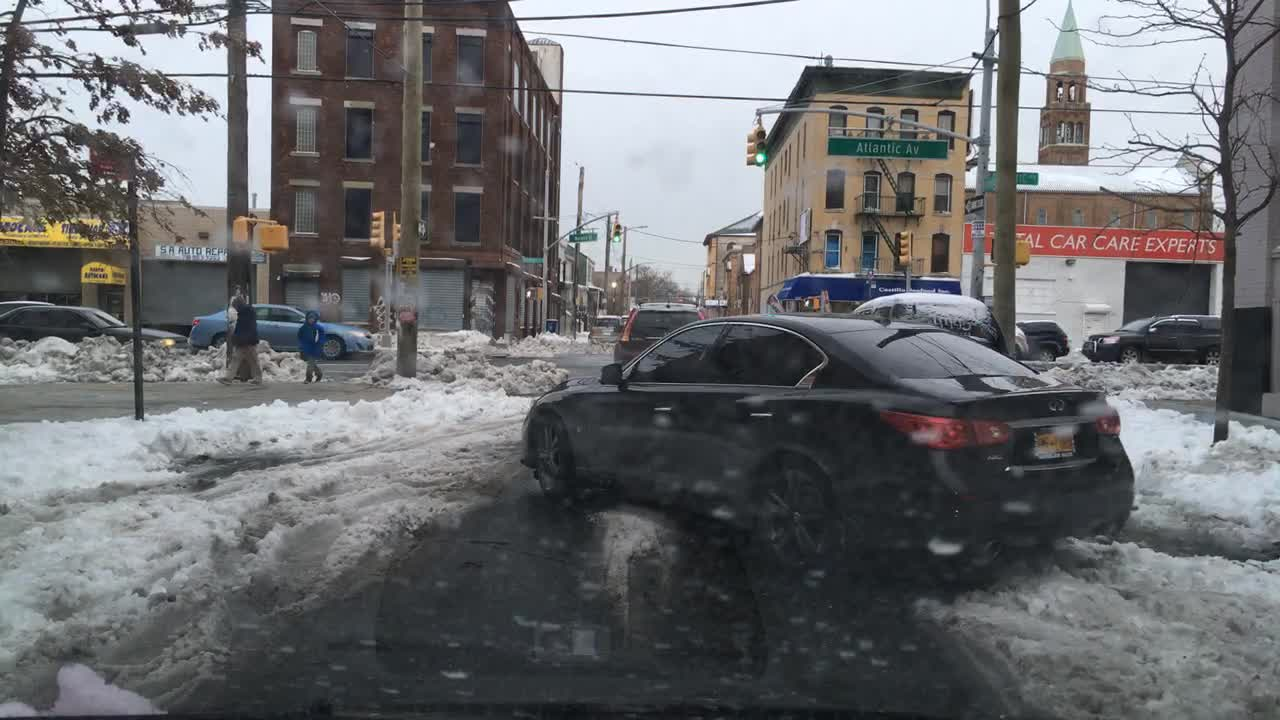car: (525, 313, 1141, 592), (190, 298, 375, 370), (2, 304, 194, 369), (1085, 307, 1224, 372)
person: (225, 292, 264, 391), (296, 307, 324, 385)
traffic light: (743, 105, 778, 172)
